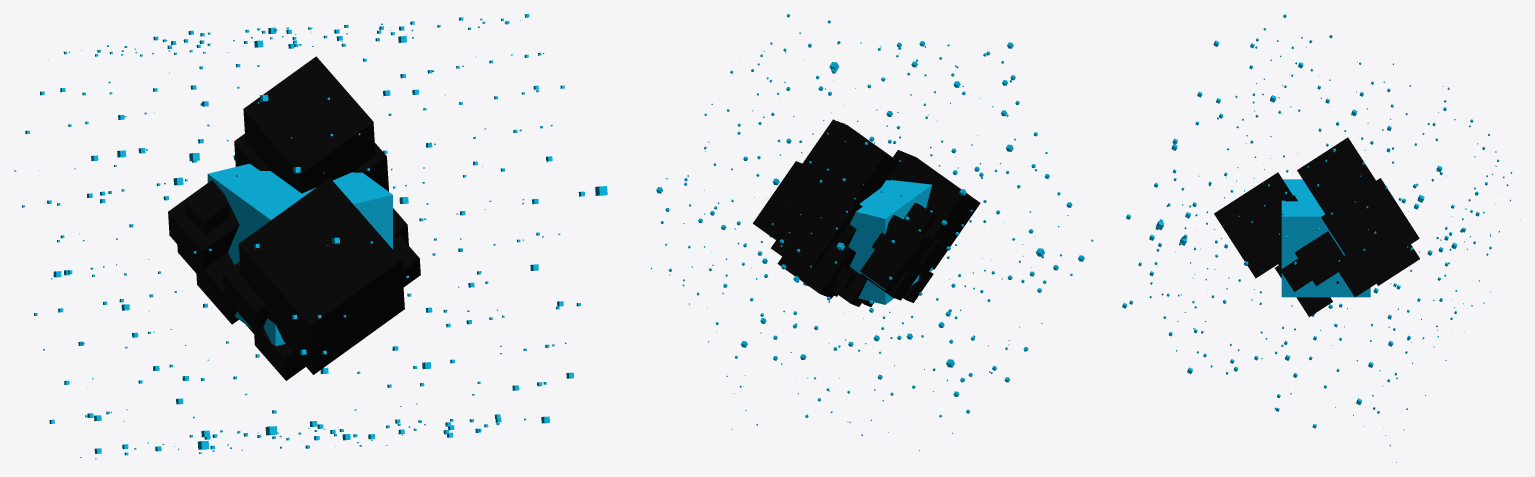
The model's file is Low_Poly_Planet_25.fbx.
3 renders of one model, left to right at view 1: azimuth 30°, elevation 25°; view 2: azimuth 150°, elevation 25°; view 3: azimuth 270°, elevation 25°, orthographic. The views are drawn at different scales.
Visible parts, largest first — view 1: Planet_25; view 2: Planet_25; view 3: Planet_25.
Boxes of the visible parts, x1,y1,x2,y2 form: Planet_25: (14,14,607,459); Planet_25: (651,14,1093,450); Planet_25: (1122,14,1520,462).
Size of the model in its own units: 324 by 416 by 419.
